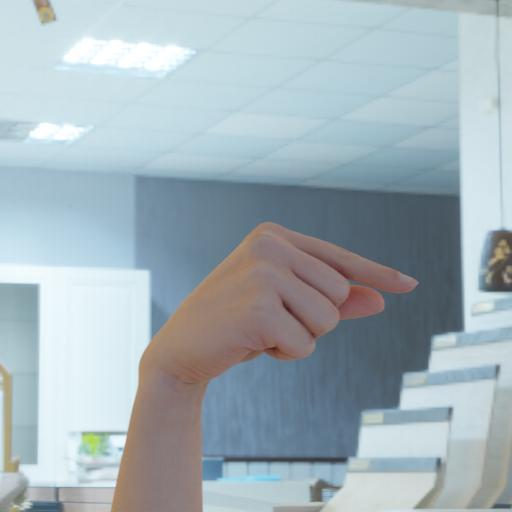G: (126, 214, 433, 398)
